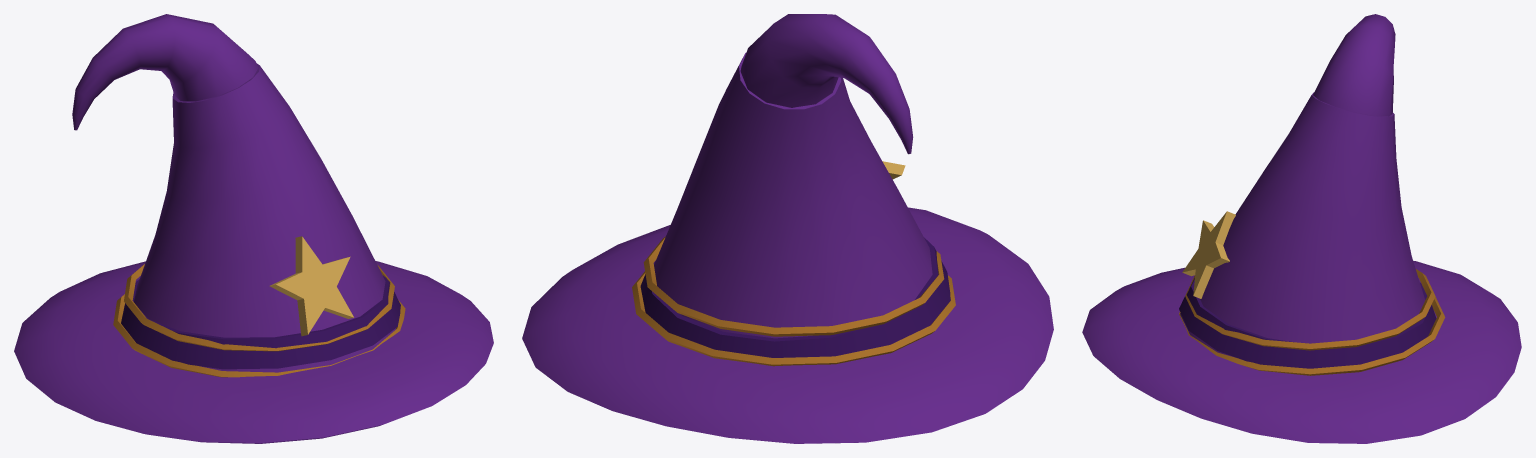
The model's file is knight_hat.glb.
3 views of the same model, side by side, from view 1: azimuth 30°, elevation 25°; view 2: azimuth 150°, elevation 25°; view 3: azimuth 270°, elevation 25° (orthographic). The views are drawn at different scales.
Parts seen in each view (by area): view 1: Hat, HatTip; view 2: Hat, HatTip; view 3: Hat, HatTip.
Boxes of the visible parts, x1,y1,x2,y2 form: Hat: [14, 63, 493, 443]; HatTip: [72, 14, 258, 130]; Hat: [522, 52, 1053, 443]; HatTip: [740, 14, 913, 154]; Hat: [1082, 92, 1521, 443]; HatTip: [1313, 14, 1395, 116].
Bounding box in the file's own units: 0.586 × 0.4496 × 0.586.
